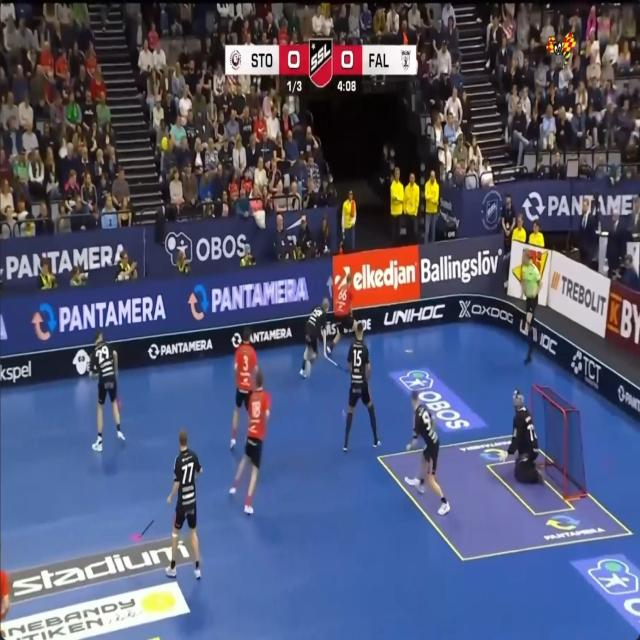player: (229, 369, 270, 514), (404, 391, 450, 515), (165, 429, 202, 579), (343, 323, 380, 450), (89, 331, 125, 450), (505, 390, 542, 482), (230, 328, 256, 450), (520, 250, 542, 363), (326, 273, 355, 354), (300, 298, 329, 377), (0, 570, 10, 621), (2, 634, 3, 637), (3, 635, 4, 636)
stick: (325, 349, 348, 371), (140, 519, 154, 537)
